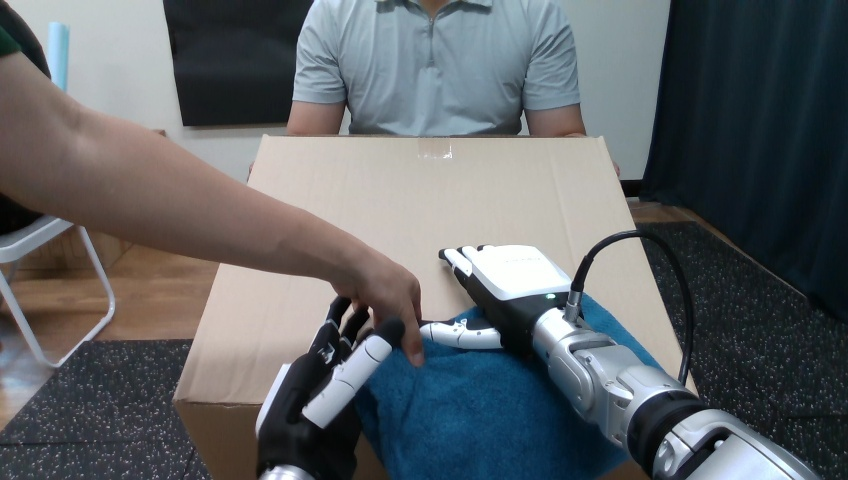left robot hand: (420, 230, 817, 479), (255, 297, 402, 479), (579, 237, 686, 378)
